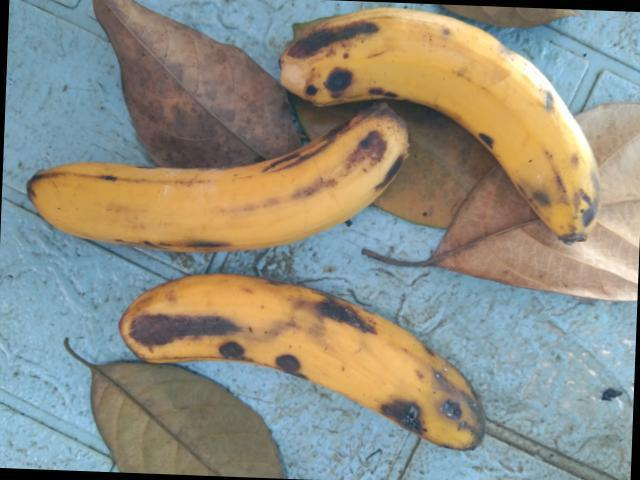overripe: (114, 258, 529, 475), (280, 3, 599, 241)
ripe: (15, 102, 413, 261)
